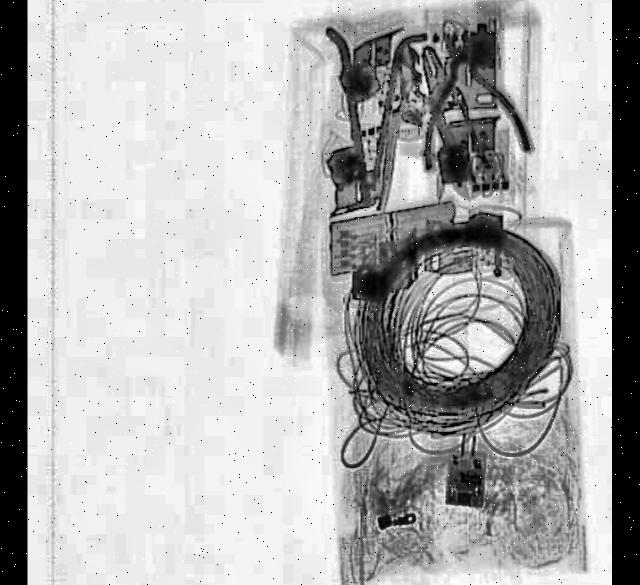Pliers: (412, 23, 529, 172), (408, 38, 492, 194)
